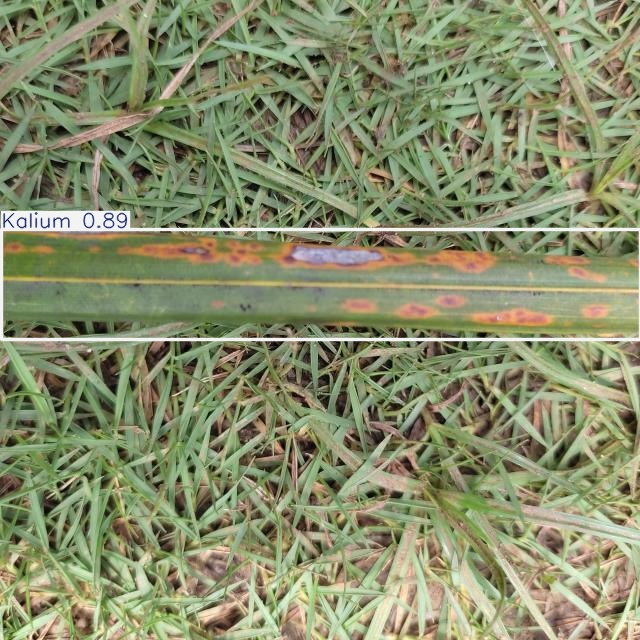Kalium: (1, 229, 640, 340)
